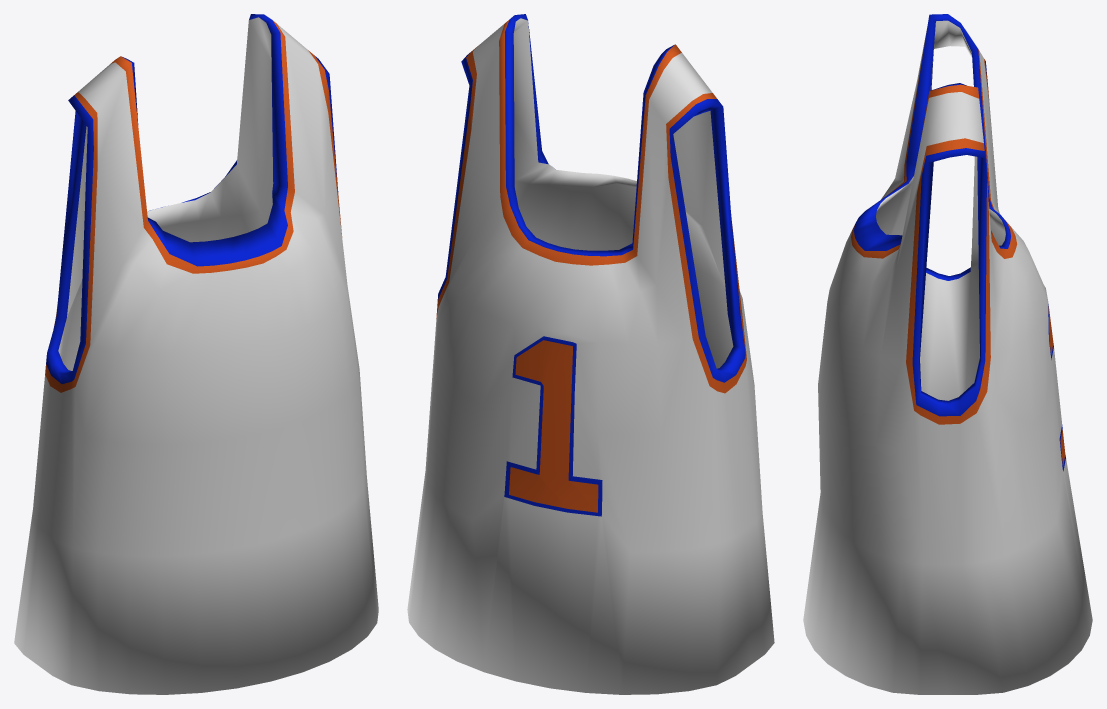
The model's file is Jersey.fbx.
The picture shows the model from 3 angles, left to right: view 1: azimuth 30°, elevation 25°; view 2: azimuth 150°, elevation 25°; view 3: azimuth 270°, elevation 25°; orthographic projection. The views are drawn at different scales.
Parts seen in each view (by area): view 1: Cube; view 2: Cube; view 3: Cube.
Part boxes in pixels (<box>): Cube: <box>14,14,378,694</box>; Cube: <box>407,14,774,694</box>; Cube: <box>803,14,1092,694</box>.
Bounding box in the file's own units: 126 × 224 × 103.
